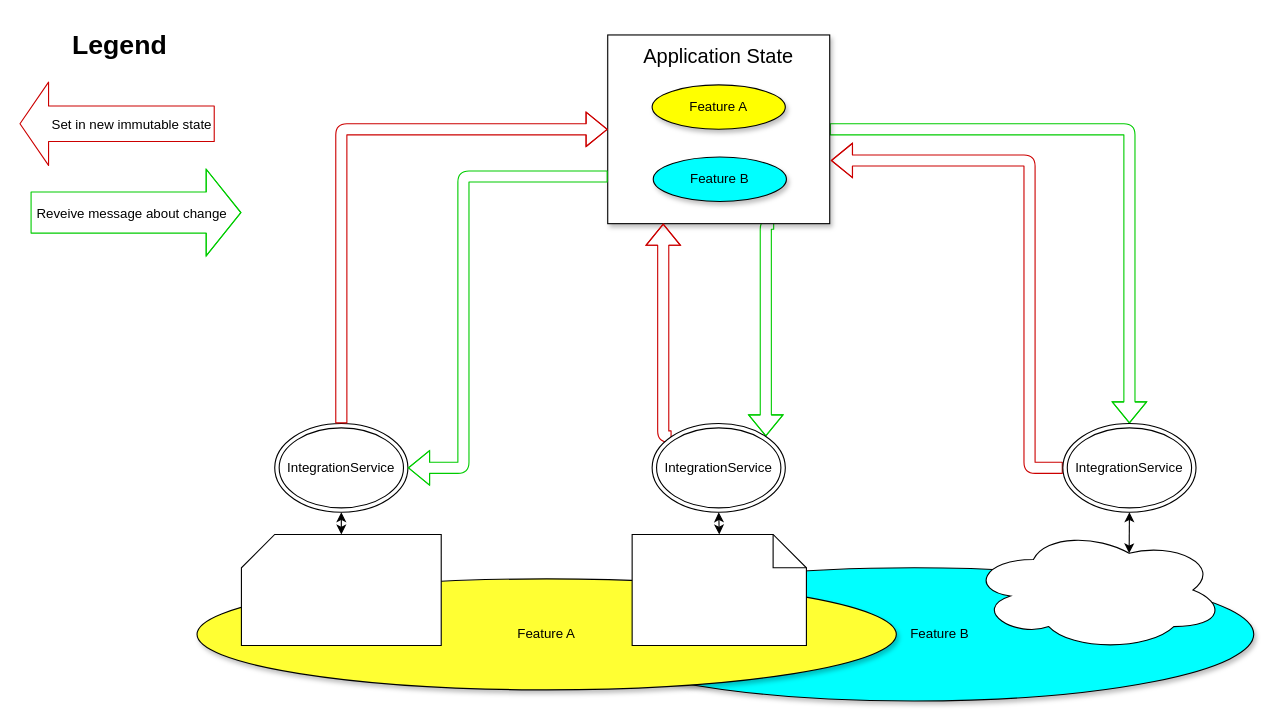
The diagram is 1280 pixels wide and 728 high, and some of its shapes have lost their labels. Here are the shapes that lost their labels. From the top down, the centre of each, then its label:
At (x=340, y=589): "Beautiful implemented Component".
At (x=718, y=589): "Component".
At (x=1096, y=589): "Hell with dragons".
